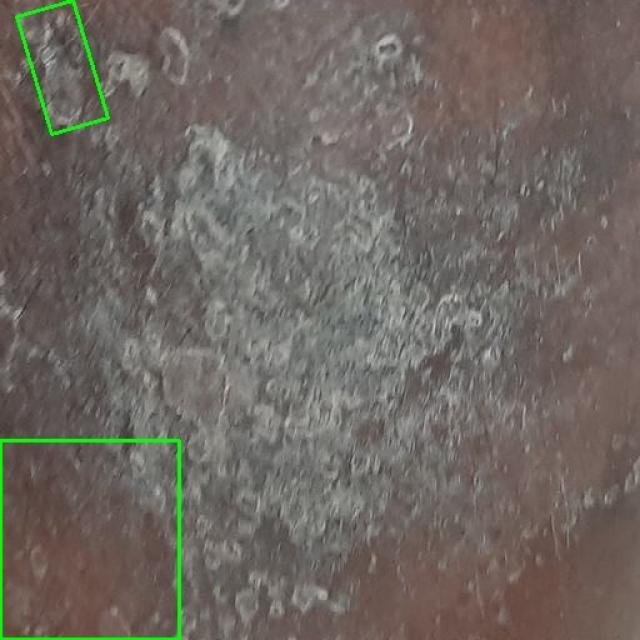Tinea Corporis: (0, 440, 179, 639), (17, 0, 108, 135)
